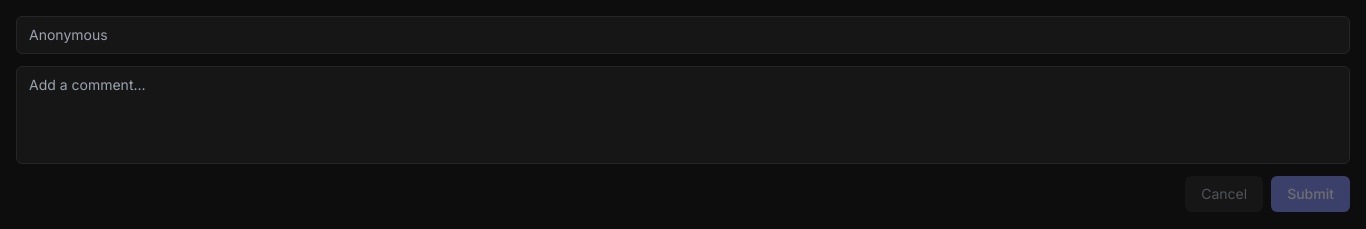
CommentForm › enables submit button when comment has text
This screenshot has width=1366, height=229.
Step 1. Type "Hello world" into the text box labelled "Add a comment…" → (683, 115), box [16,66,1350,164]
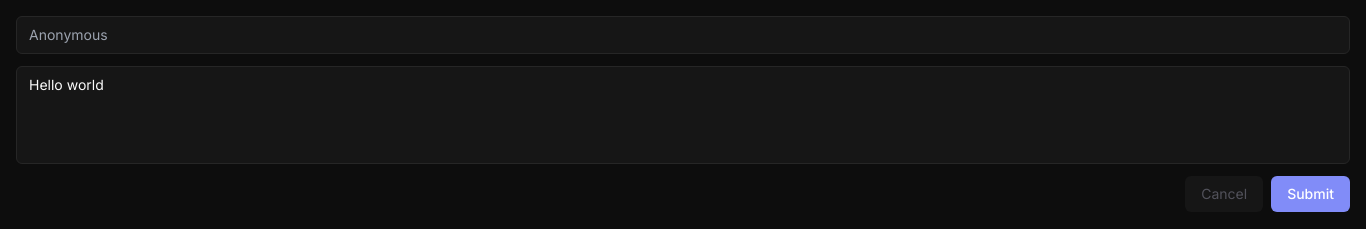
Check: the button "Submit" is enabled, box [1271,176,1350,212]
